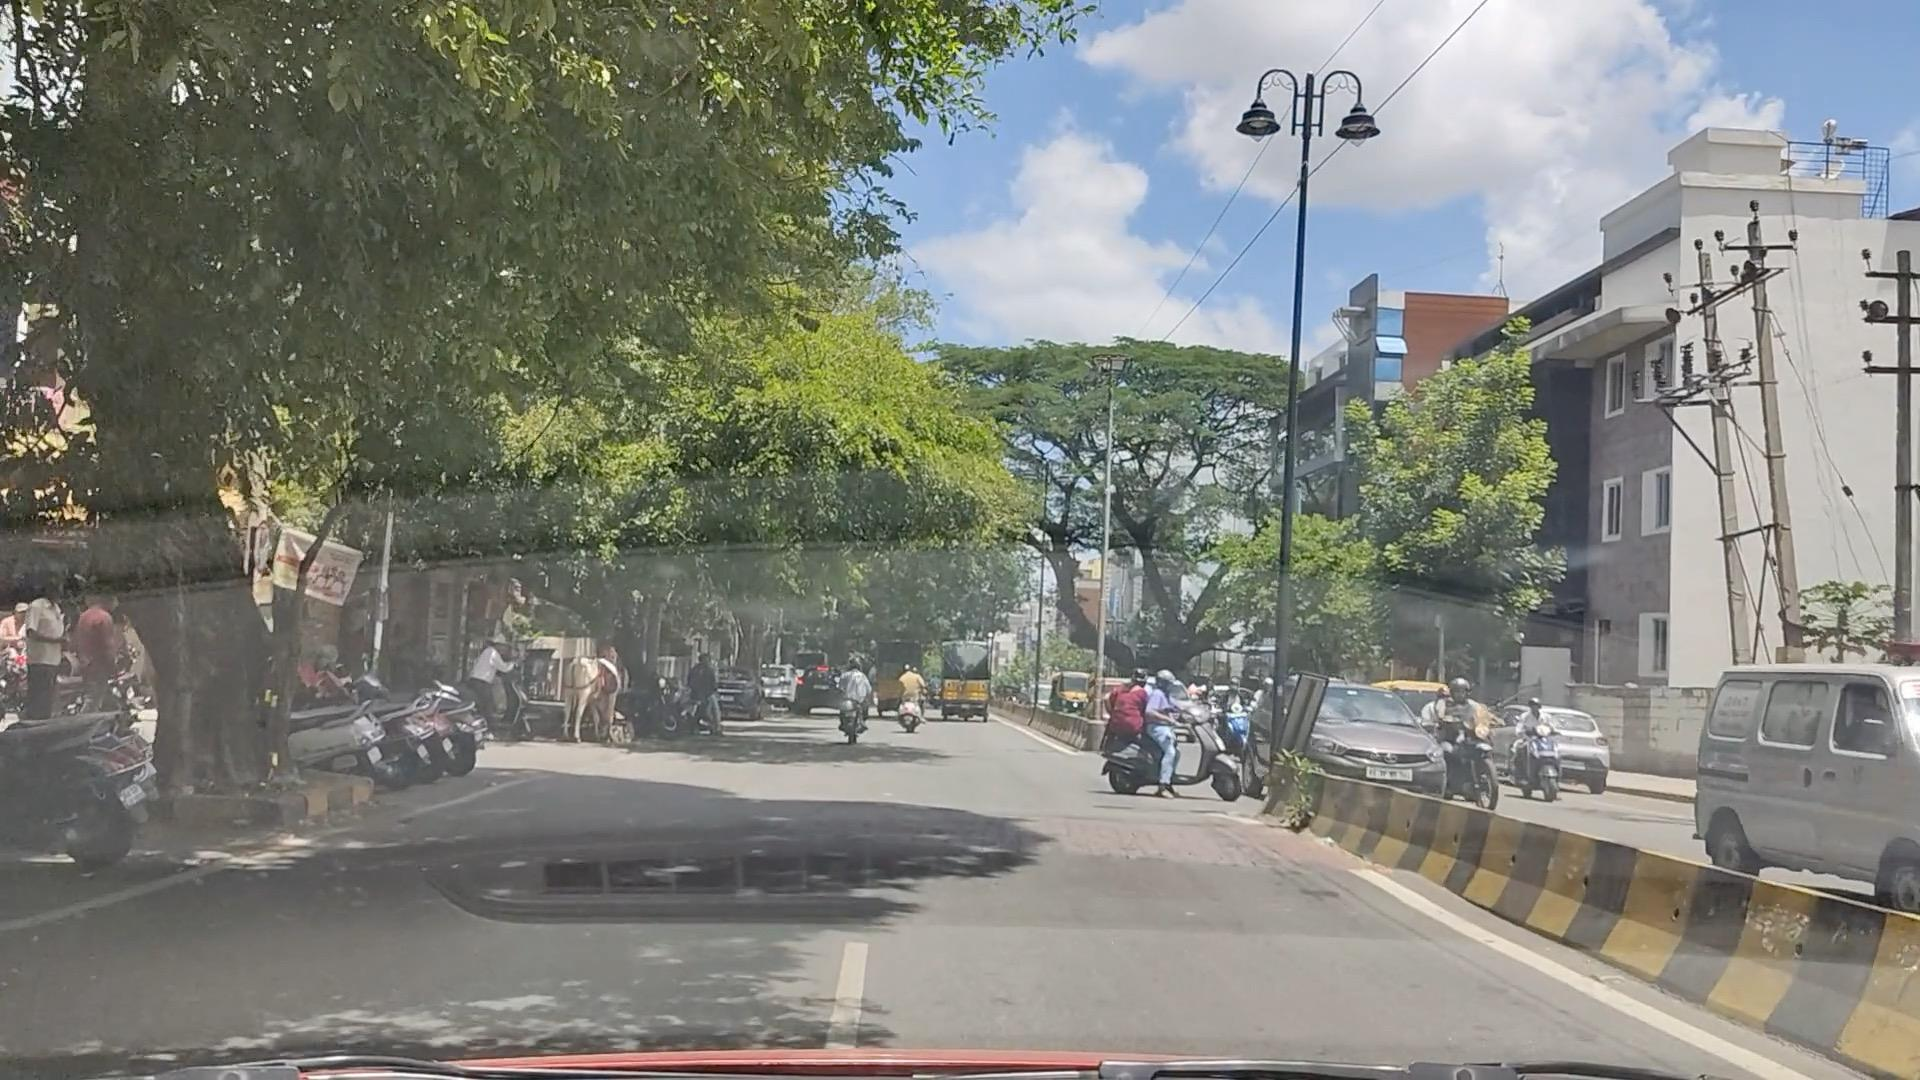LMV: (1104, 674, 1221, 804)
